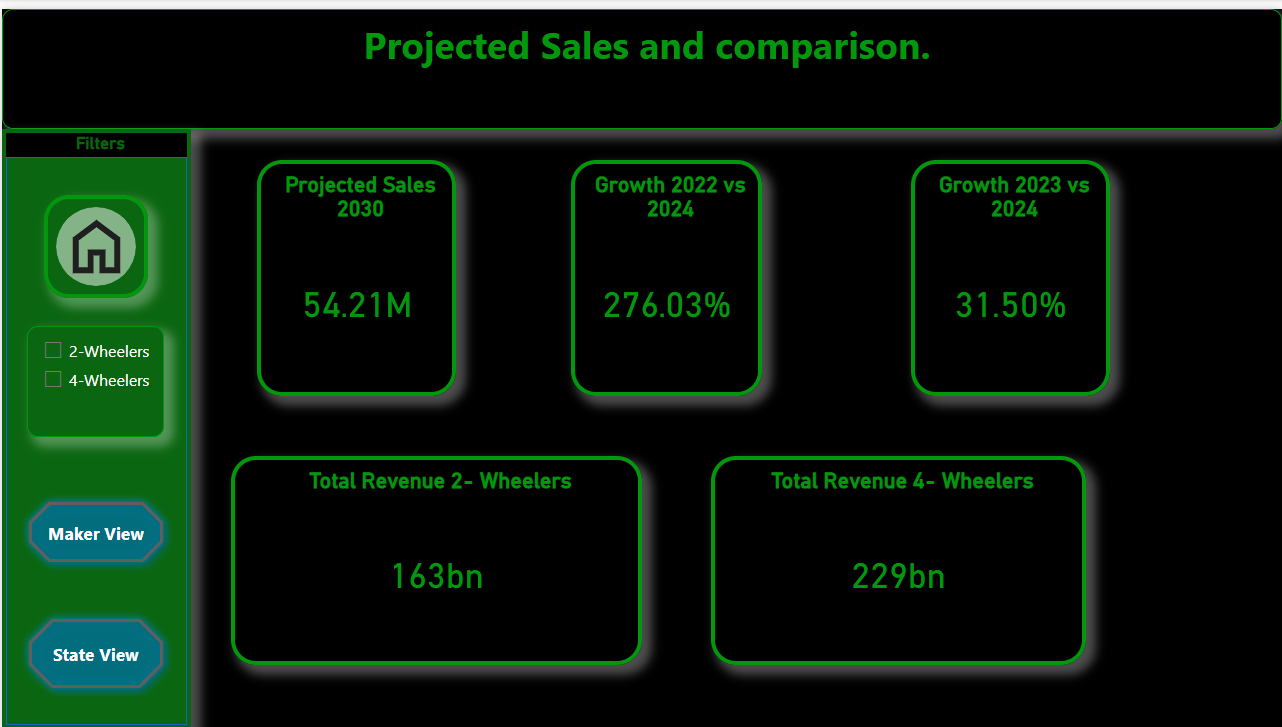

Layout of this report page (visuals, bound fields, positions):
{"tool":"powerbi","page":{"name":"q-8","canvas":[1280,720],"ordinal":10},"visuals":[{"type":"textbox","box":[0,0,1280,120],"z":0},{"type":"shape","title":"Filters","box":[0,120,188.9,600],"z":1000},{"type":"actionButton","box":[18,484,152,78],"z":3000},{"type":"actionButton","box":[42.5,186.3,103.5,102.4],"z":4000},{"type":"actionButton","box":[18,601,152,87],"z":5000},{"type":"card","title":"Projected Sales 2030","fields":{"Values":["electric_vehicle_sales_by_state.Projected 2030 Sales"]},"box":[255,151,199,236],"z":5001},{"type":"slicer","fields":{"Values":["electric_vehicle_sales_by_state.vehicle_category"]},"box":[25,317,137,111],"z":5003},{"type":"card","title":"Growth 2023 vs 2024","fields":{"Values":["electric_vehicle_sales_by_state.Growth 2023 vs 2024"]},"box":[909,151,199,236],"z":5004},{"type":"card","title":"Total Revenue 2- Wheelers","fields":{"Values":["electric_vehicle_sales_by_state.2-wheeler Revenue"]},"box":[229,447,411,209],"z":5005},{"type":"card","title":"Total Revenue 4- Wheelers","fields":{"Values":["electric_vehicle_sales_by_state.4-wheeler Revenue"]},"box":[709,447,375,209],"z":5006},{"type":"card","title":"Growth 2022 vs 2024","fields":{"Values":["electric_vehicle_sales_by_state.Growth 2022 vs 2024"]},"box":[569,151,191,236],"z":5007}]}

Visuals, with their boxes in screenshot pixels (x1, y1, x2, y2), scaled from the page's 1280x720 canvas onto the 1282x727 screenshot:
textbox: 0,0,1281,121
"Filters" shape: 0,121,189,726
actionButton: 18,489,170,567
actionButton: 43,188,146,292
actionButton: 18,607,170,695
"Projected Sales 2030" card: 255,152,455,391
slicer - electric_vehicle_sales_by_state.vehicle_category: 25,320,162,432
"Growth 2023 vs 2024" card: 910,152,1110,391
"Total Revenue 2- Wheelers" card: 229,451,641,662
"Total Revenue 4- Wheelers" card: 710,451,1086,662
"Growth 2022 vs 2024" card: 570,152,761,391
